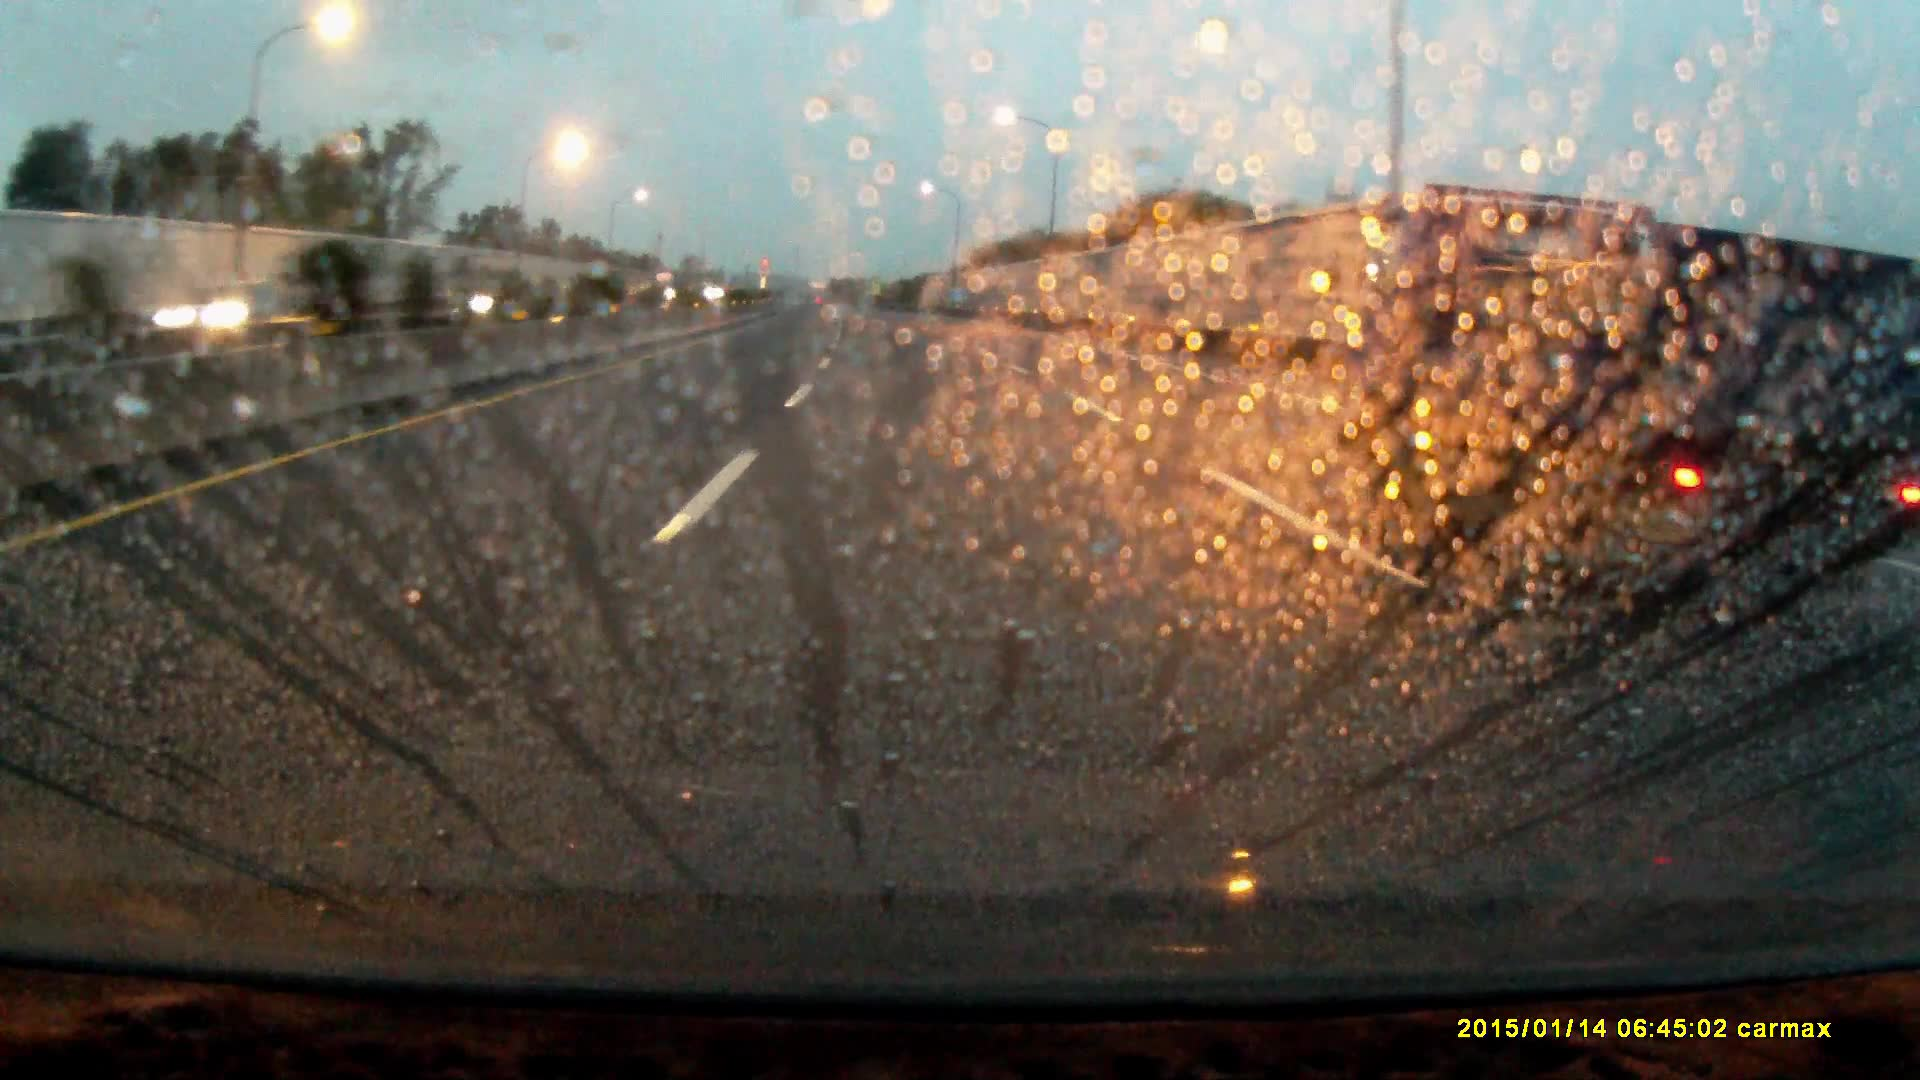vehicle: (1312, 189, 1902, 618), (150, 277, 286, 331), (440, 266, 520, 316), (655, 270, 679, 301)
